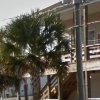Palm tree: (3, 10, 69, 98)
